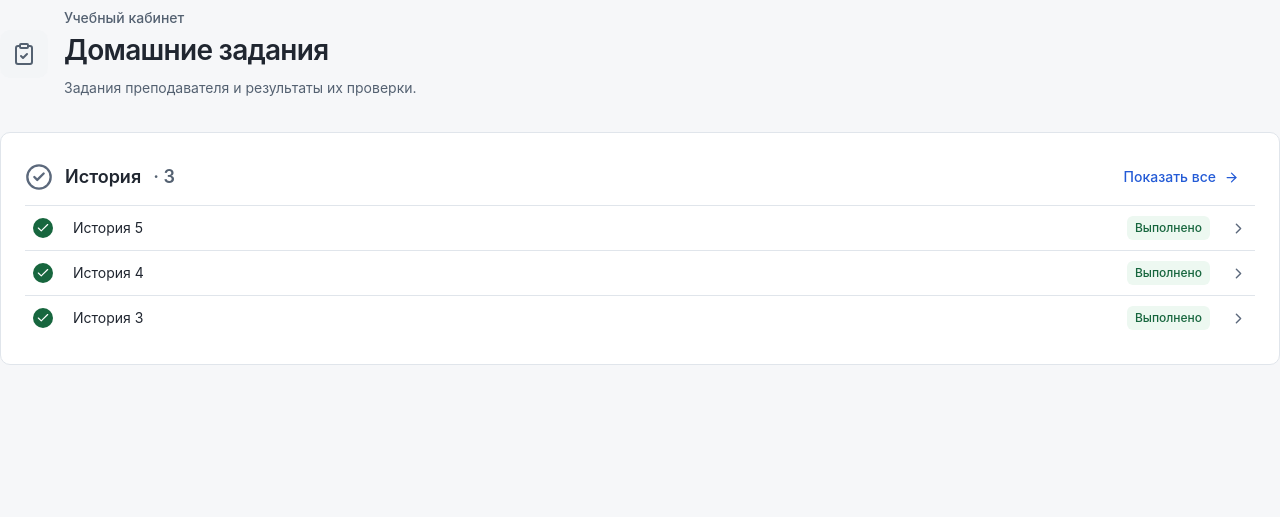
it: StudentHomeworksView › previews only three history rows, expands and collapses with truthful visible counts
Expected: the number of list items is 3, [25,206,1255,251]; [25,251,1255,296]; [33,306,1247,330]
Expected: the link "История 5 Выполнено" is shown, [33,216,1247,240]
Click the button "Показать все".
click(1181, 177)  # box [1108,157,1255,197]
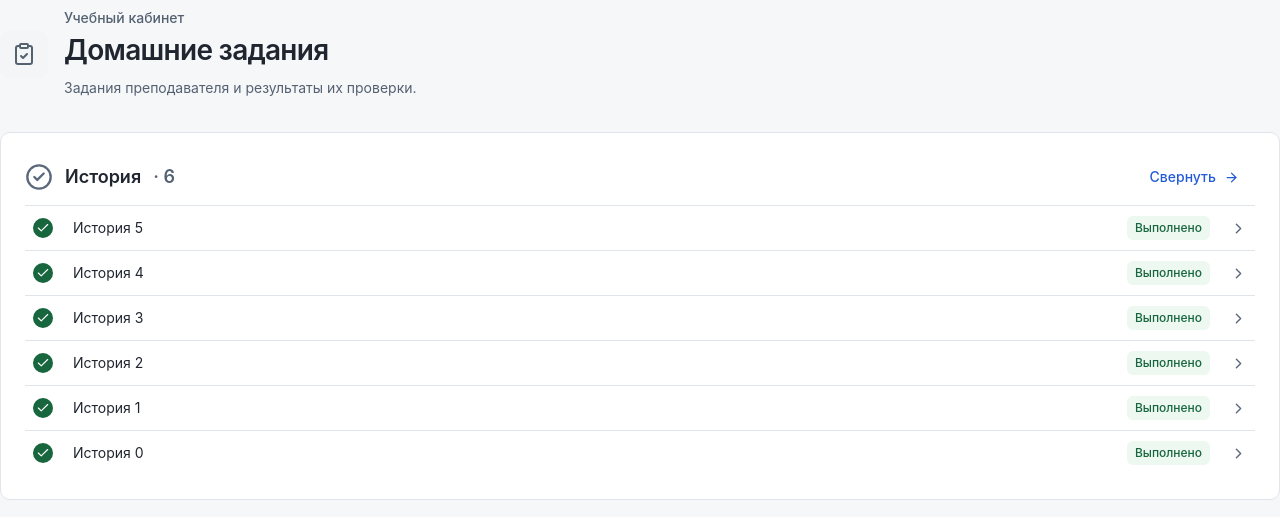
Now the number of list items is 6, box [25,206,1255,251]; [25,251,1255,296]; [25,296,1255,341]; [25,341,1255,386]; [25,386,1255,431]; [33,441,1247,465]
Now the button "Свернуть" is expanded
Click the button "Свернуть".
click(1194, 177)  # box [1134,157,1255,197]
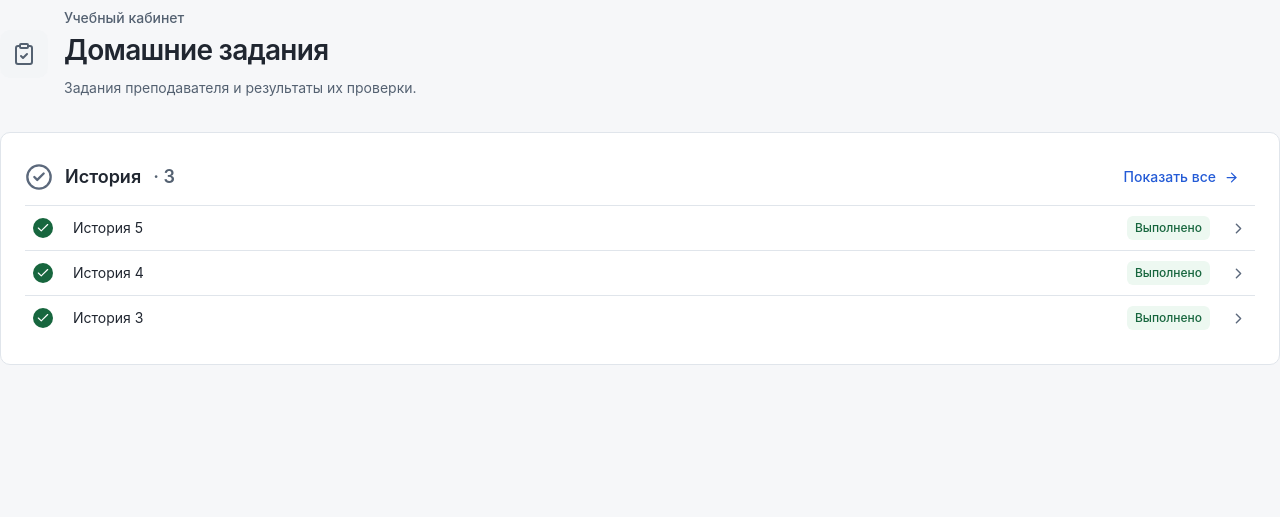
Now the element "История · 3" is shown, box [0,132,1279,365]
